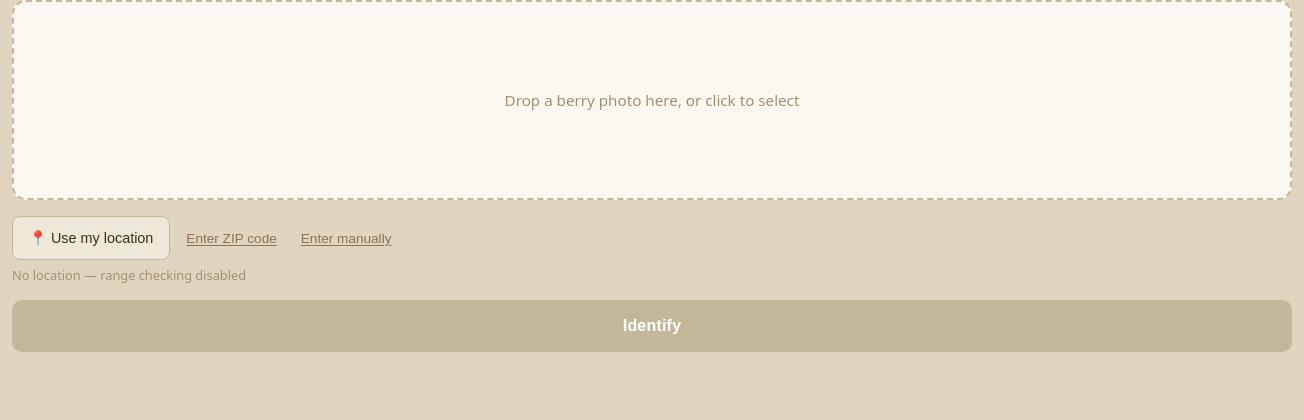
Scenario: ZIP code entry › shows ZIP input when "Enter ZIP code" is clicked
This screenshot has width=1304, height=420.
Click the button "Enter ZIP code" at (232, 238), box [178,216,285,260]
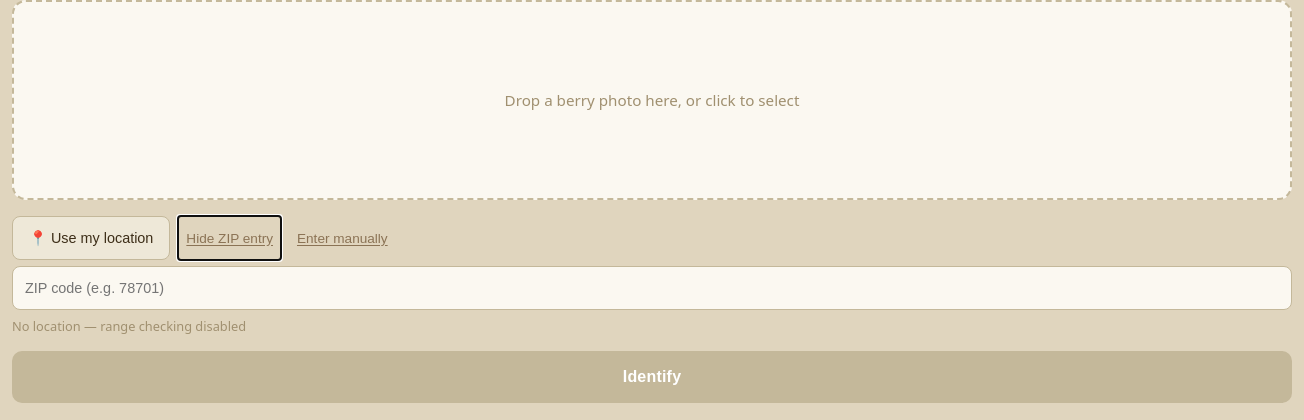
Check: the field labelled "ZIP code (e.g. 78701)" is shown, box [12,266,1292,310]
